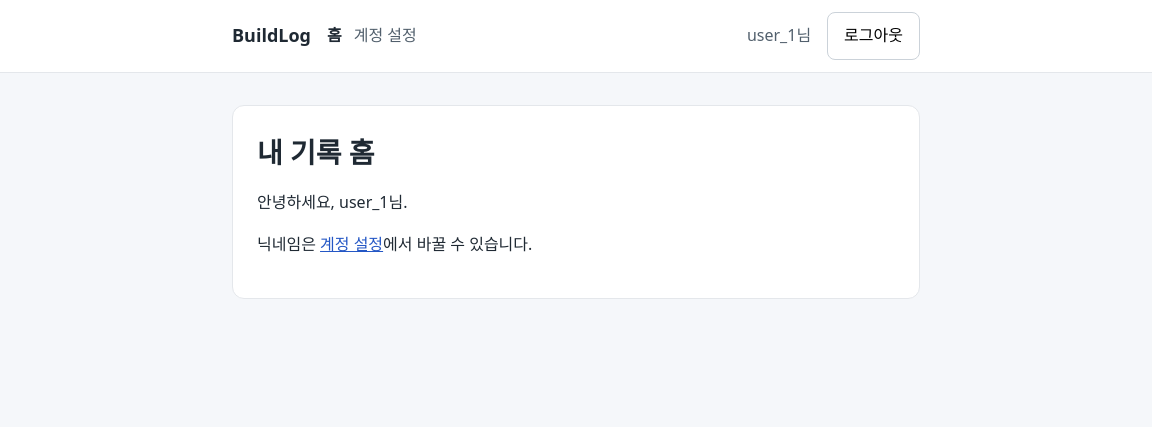
로그아웃 › 로그아웃하면 로그인 화면으로 이동한다
Check: the heading "내 기록 홈" is shown, box [257, 133, 375, 171]
What coordinates should you click on to do the following:
click the button "로그아웃"
I would click on:
 (874, 36)
Its box is [827, 12, 920, 60].
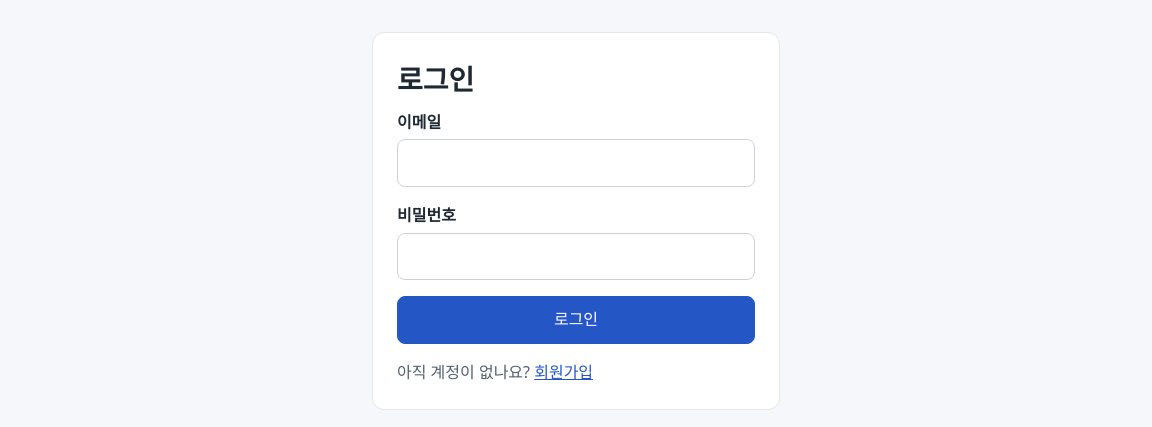
Check: the heading "로그인" is shown, box [397, 60, 474, 98]
